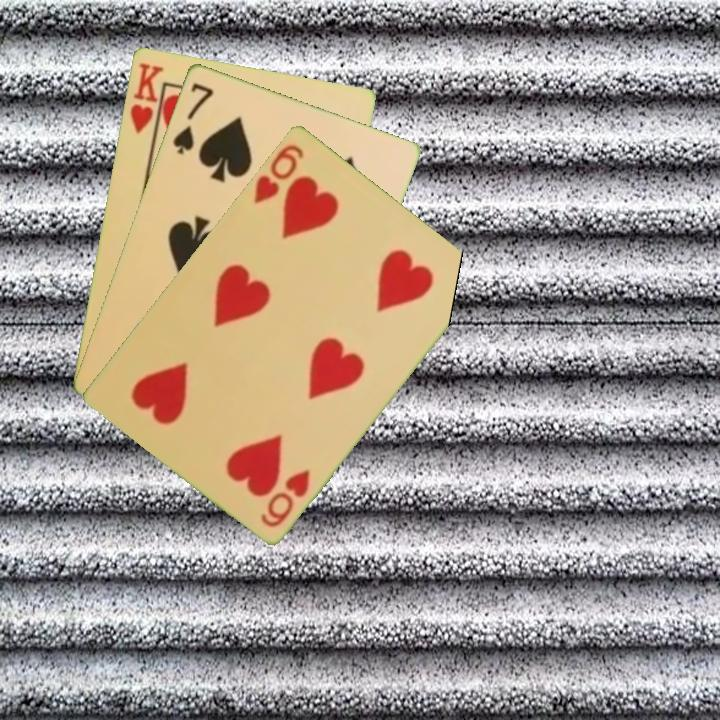6h: (250, 140, 307, 206), (256, 465, 313, 530)
7s: (168, 79, 216, 157)
Kh: (126, 58, 166, 144)
